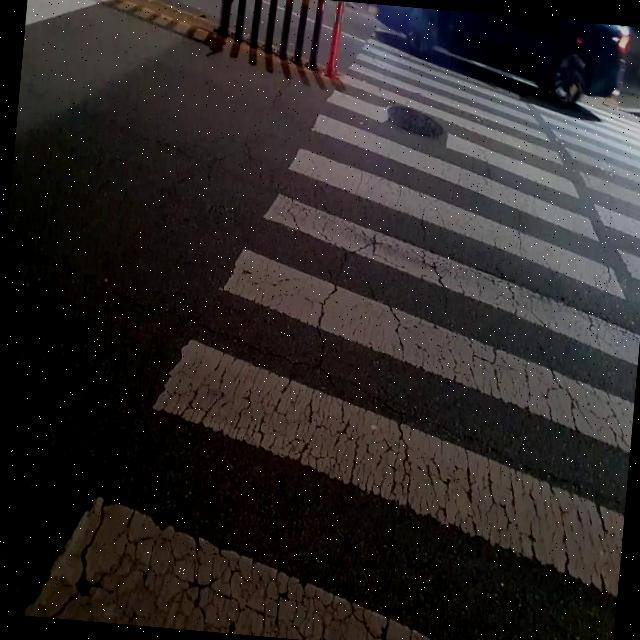crosswalk: (22, 23, 640, 640)
